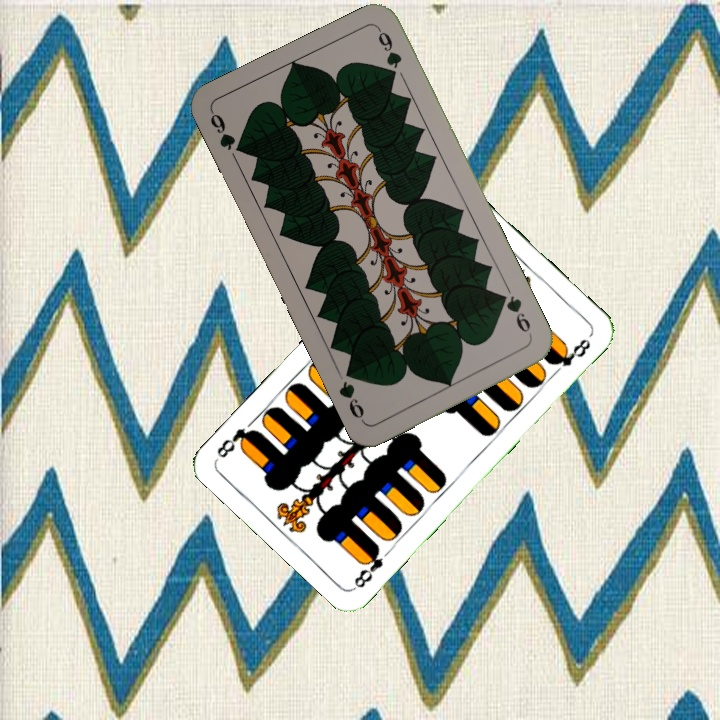E8: (350, 541, 386, 591)
G9: (206, 107, 249, 158), (495, 290, 535, 341)
